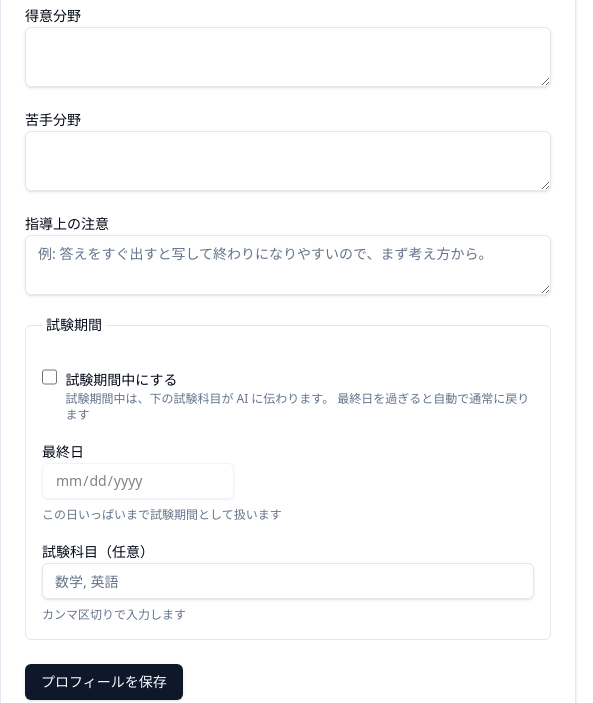
Test case: StudentProfileForm（H-8: fieldErrors の描画） › 各フィールドのエラーを表示する
(page scrolled)
Click the button "プロフィールを保存". click: (104,682)
box: [25,664,183,700]
(page scrolled)
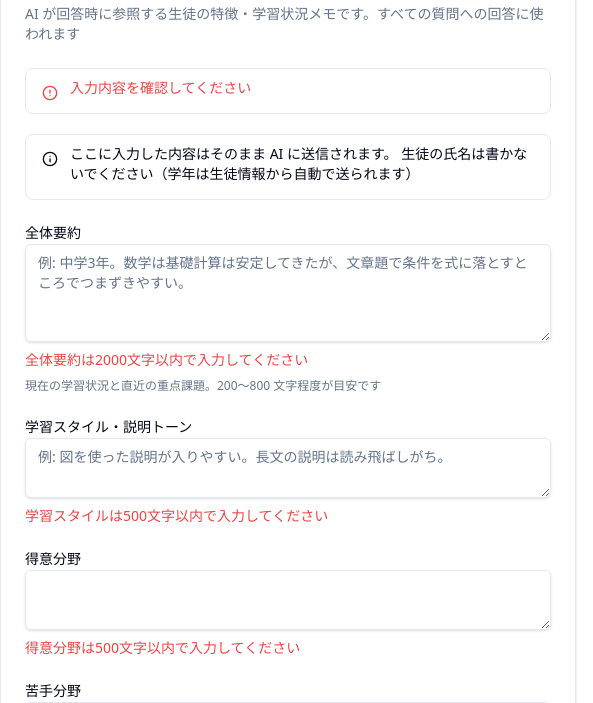
Now the text "全体要約は2000文字以内で入力してください" is shown, box [25,350,308,369]
Now the text "学習スタイルは500文字以内で入力してください" is shown, box [25,506,328,525]
Now the text "得意分野は500文字以内で入力してください" is shown, box [25,638,300,657]
